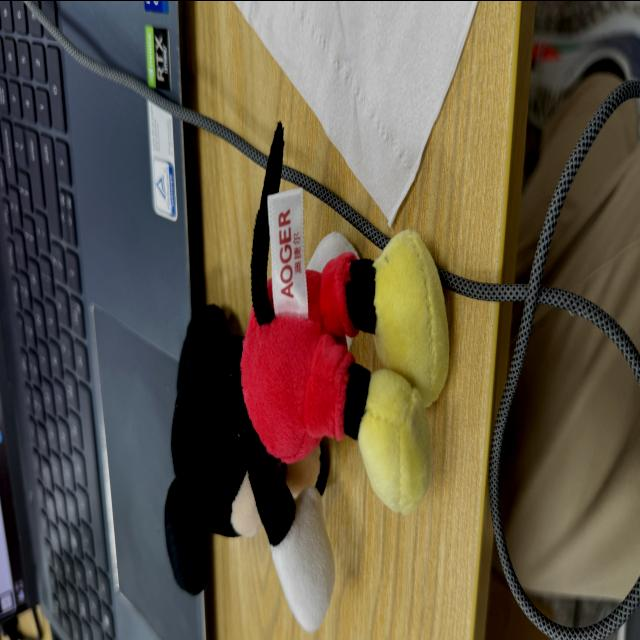mickey: (166, 123, 448, 629)
